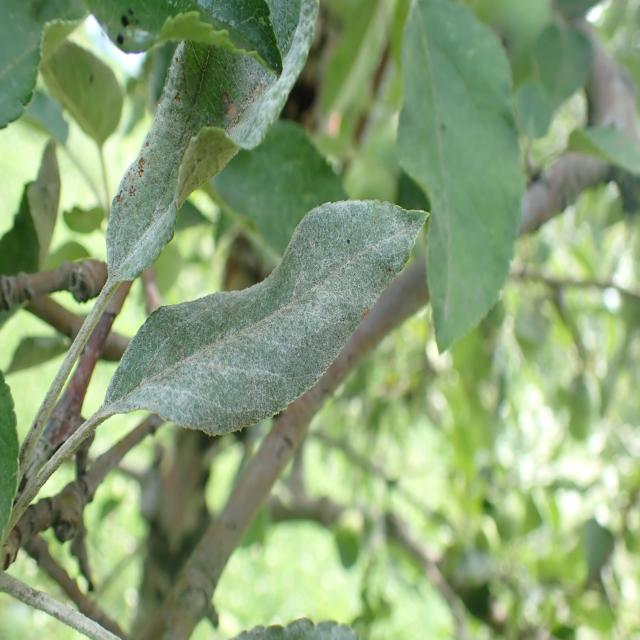Powdery_mildew: (105, 192, 432, 473), (92, 2, 326, 268)
